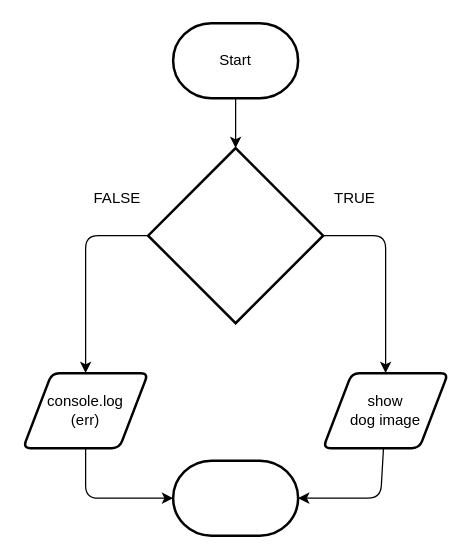
Some shapes in this 470 by 558 pixel diagram are drawn without their labels. The centre of each missing label's shape, as x and y in pixels:
"Stop" belongs at pixel 235 497.
"try fetch dog image from URLaddress" belongs at pixel 235 235.
